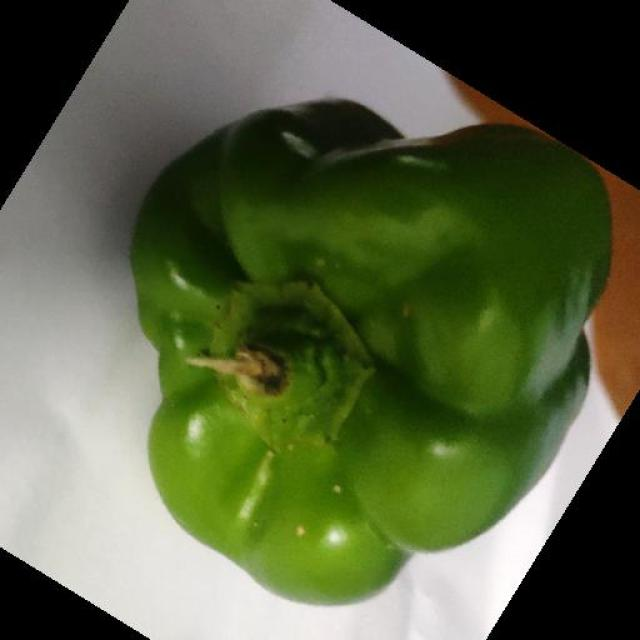Fresh_Capsicum: (210, 223, 490, 486)
